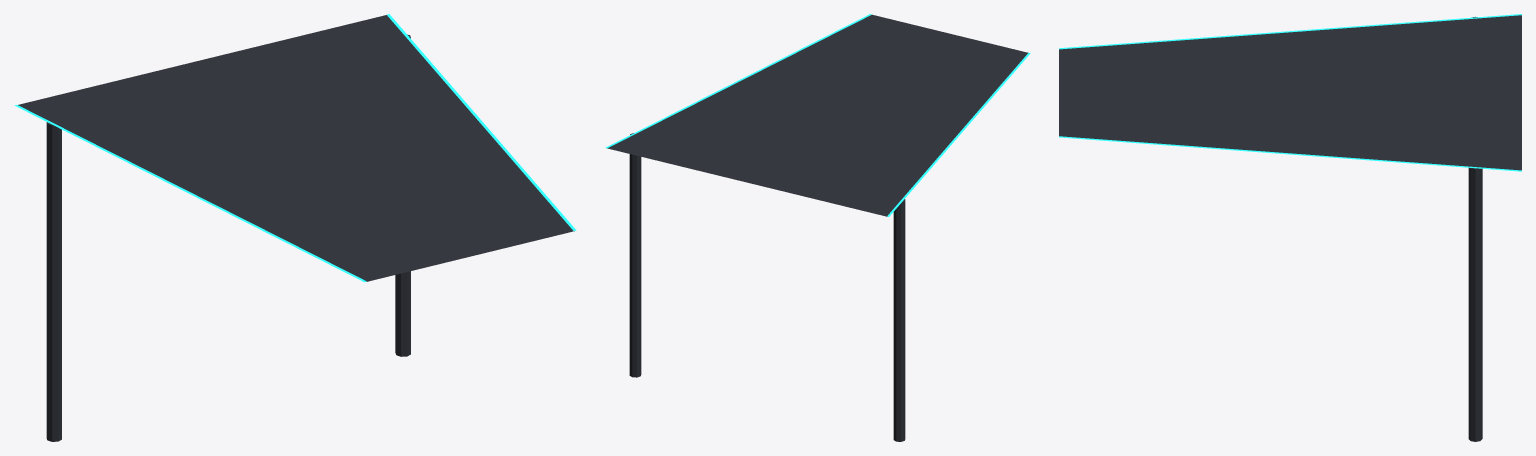
Rendered from road_widen.glb.
3 views of the same model, side by side, from view 1: azimuth 30°, elevation 25°; view 2: azimuth 150°, elevation 25°; view 3: azimuth 270°, elevation 25° (orthographic). The views are drawn at different scales.
Visible parts, largest first — view 1: ENV_ROAD_WIDEN_01; view 2: ENV_ROAD_WIDEN_01; view 3: ENV_ROAD_WIDEN_01.
Boxes of the visible parts, x1=… form: ENV_ROAD_WIDEN_01: x1=14, y1=14, x2=576, y2=441; ENV_ROAD_WIDEN_01: x1=605, y1=14, x2=1030, y2=441; ENV_ROAD_WIDEN_01: x1=1059, y1=14, x2=1521, y2=441.
Bounding box in the file's own units: 32.25 × 26.02 × 40.
